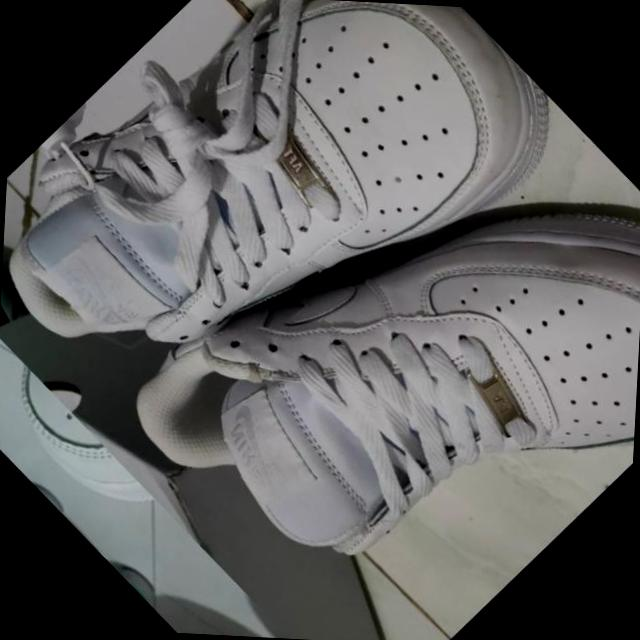nike_fake_airforce: (103, 17, 640, 640), (0, 0, 586, 515)
